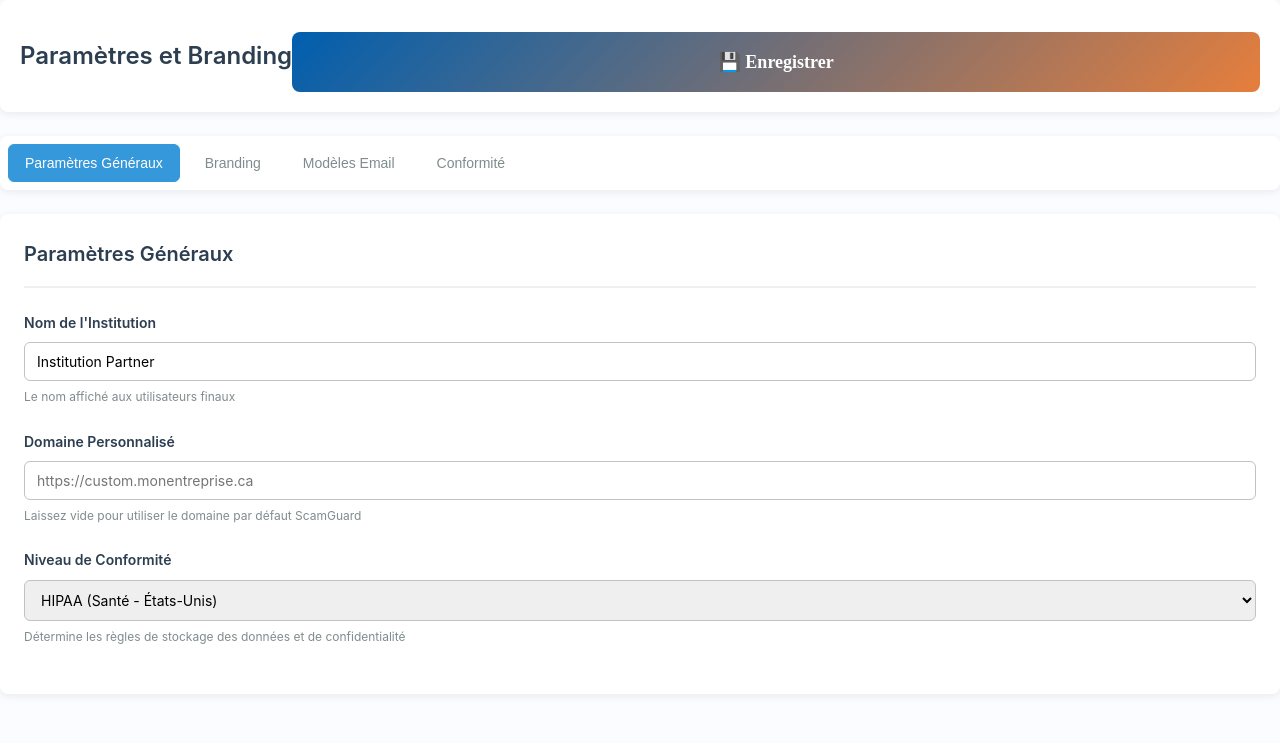
Test case: SettingsBranding Module › Tab Navigation › should switch to compliance tab
The image size is (1280, 743).
Click the button "Conformité". click: (471, 163)
box: [420,144,522,182]
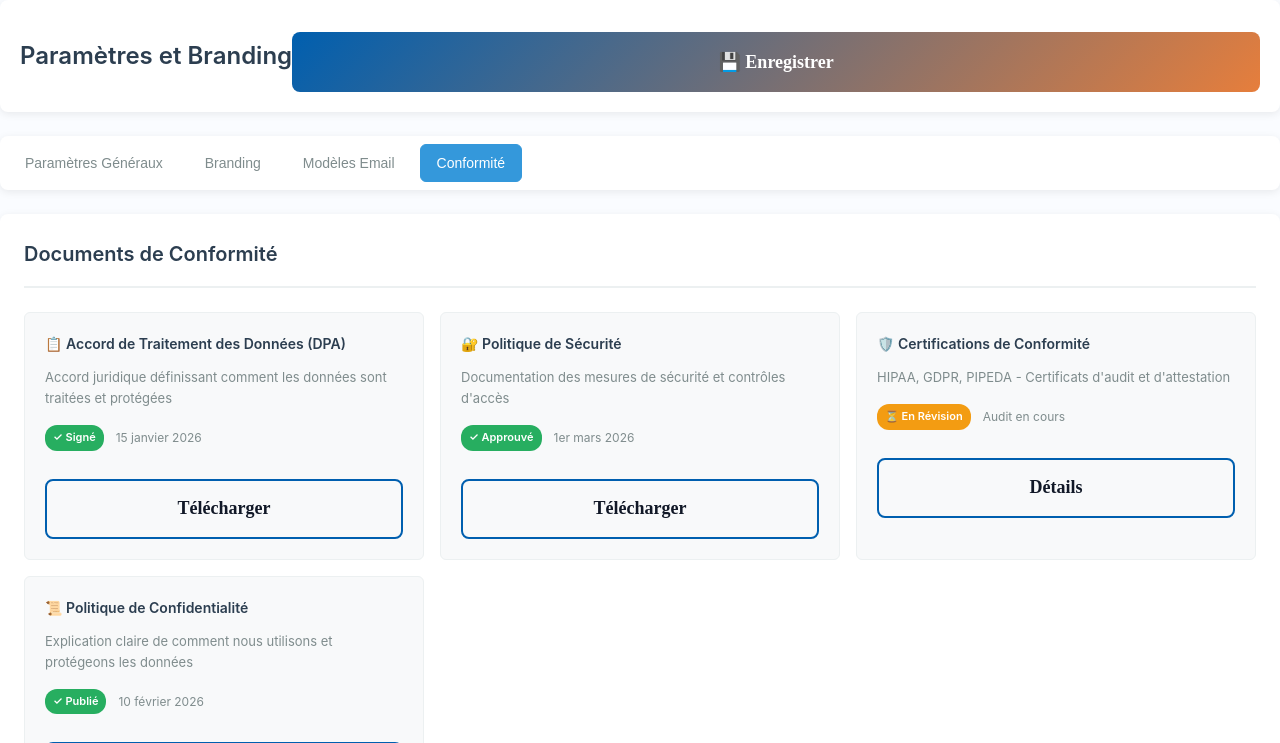
Now the heading "Documents de Conformité" is shown, box [24,238,1256,288]
